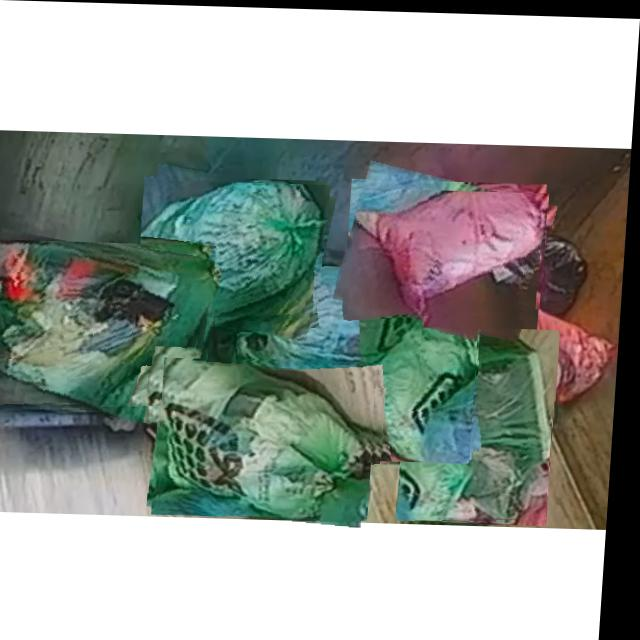general_trashbag: (0, 242, 217, 409), (169, 358, 378, 518), (416, 324, 557, 518), (144, 181, 330, 318), (244, 265, 428, 386), (366, 305, 480, 460)
other_trashbag: (357, 189, 551, 315)
